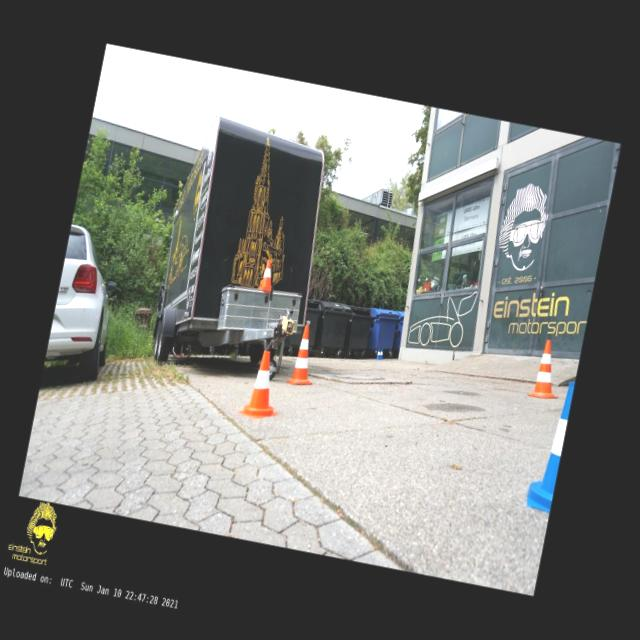blue_cone: (524, 378, 574, 512)
large_orange_cone: (528, 338, 568, 402), (286, 322, 323, 388)
orange_cone: (238, 348, 288, 421), (258, 258, 278, 292)
